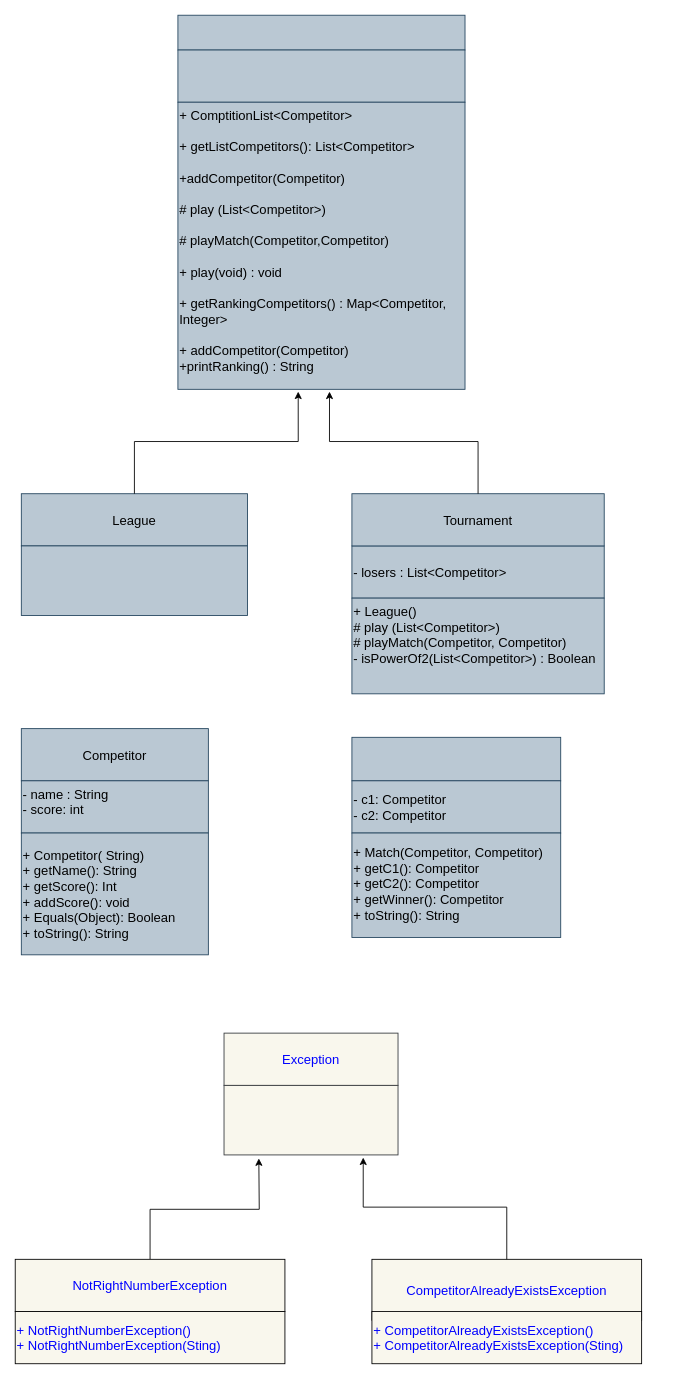
This 680x1379 diagram has some shape labels left out. Here are the shapes that lost their labels. From the top down, the centre of each, then its label:
At (x=321, y=32): "<<abstract>> Competition".
At (x=321, y=75): "- final competitors: List<Competitors # rankingCompetitors: Map<String, Integer>".
At (x=134, y=580): "+ League() # play (List<Competitor>) # playMatch(Competitor, Competitor)".
At (x=456, y=758): "Match".
